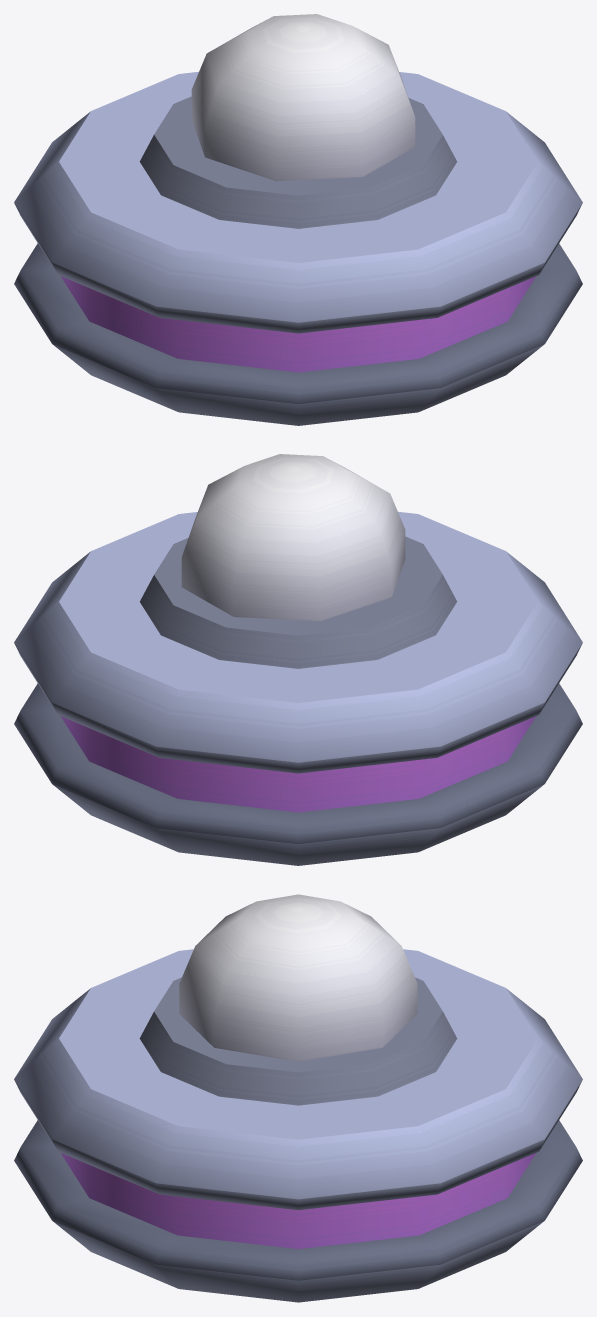
File: enemy-ufo-d.glb
3 views of the same model, one above another, from view 1: azimuth 30°, elevation 25°; view 2: azimuth 150°, elevation 25°; view 3: azimuth 270°, elevation 25° (orthographic).
Visible parts, largest first — view 1: enemy-ufo-d; view 2: enemy-ufo-d; view 3: enemy-ufo-d.
Part boxes in pixels (x1,y1,x2,y2): enemy-ufo-d: (14, 14, 582, 425); enemy-ufo-d: (14, 454, 582, 865); enemy-ufo-d: (14, 894, 582, 1302).
Size of the model in its own units: 0.9494 by 0.5444 by 0.95.
Materials: 1 (1 with a texture image).
